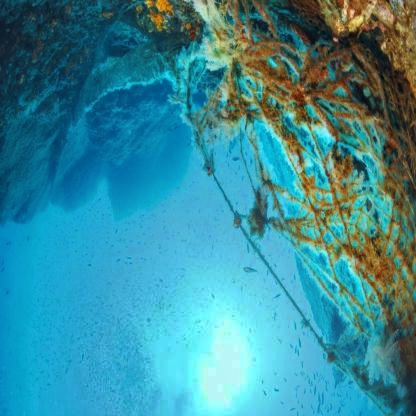net: (196, 0, 416, 368)
